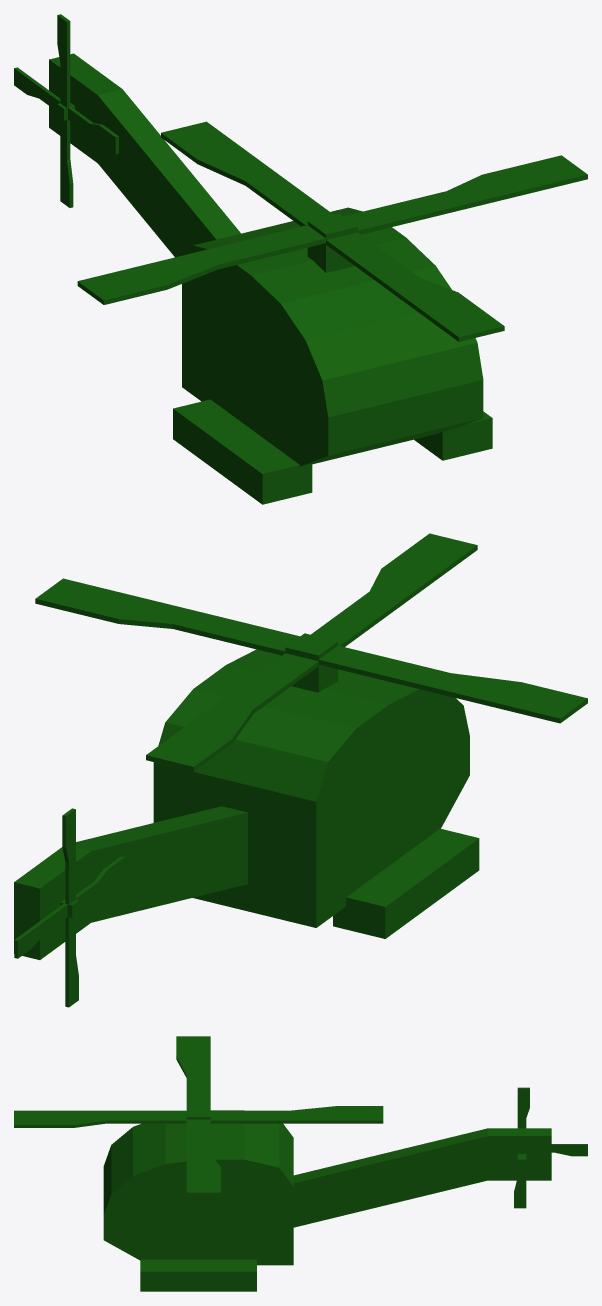
File: Helicoptero.fbx
The picture shows the model from 3 angles, top to bottom: view 1: azimuth 30°, elevation 25°; view 2: azimuth 150°, elevation 25°; view 3: azimuth 270°, elevation 25°; orthographic projection. The views are drawn at different scales.
Parts seen in each view (by area): view 1: Helicoptero; view 2: Helicoptero; view 3: Helicoptero.
Boxes of the visible parts, x1,y1,x2,y2 form: Helicoptero: [14, 14, 587, 504]; Helicoptero: [14, 533, 587, 1007]; Helicoptero: [14, 1036, 587, 1291].
Bounding box in the file's own units: 634 × 305 × 986.
